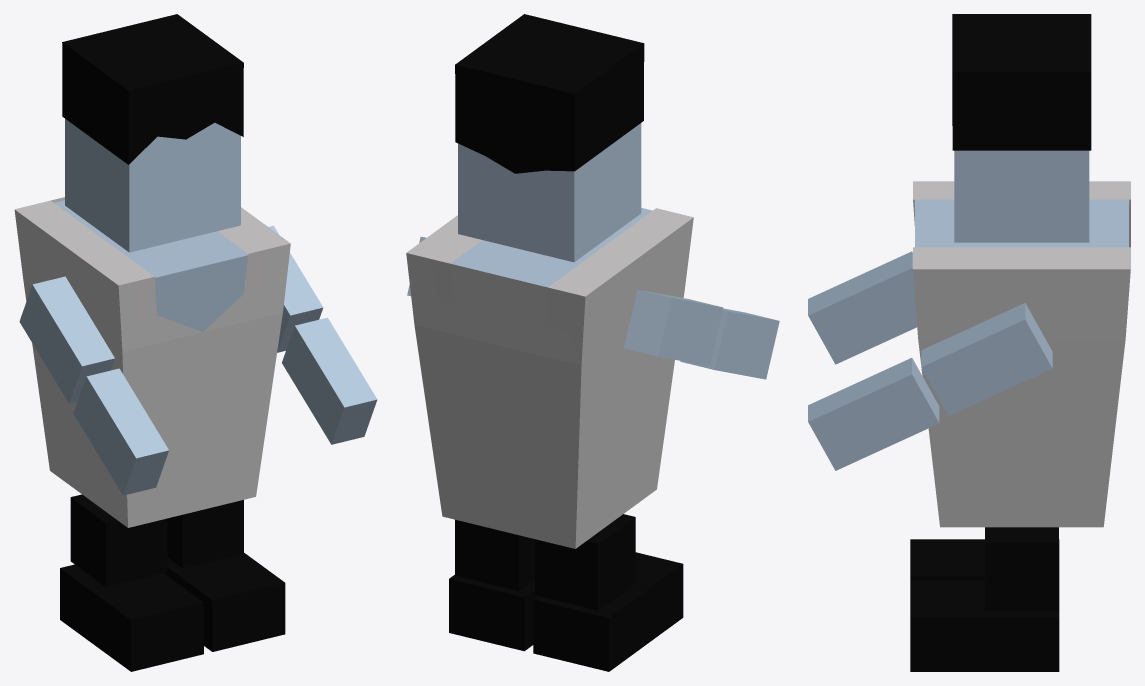
File: zomb.fbx
3 views of the same model, side by side, from view 1: azimuth 30°, elevation 25°; view 2: azimuth 150°, elevation 25°; view 3: azimuth 270°, elevation 25° (orthographic). The views are drawn at different scales.
Visible parts, largest first — view 1: Cube.012, Cube.010, Cube.001, Cube.004, Cube, Cube.005, Cube.007, Cube.008, Cube.009, Cube.002, Cube.003, Cube.006; view 2: Cube.012, Cube.010, Cube.001, Cube.004, Cube.002, Cube.009, Cube.005, Cube.003, Cube.008, Cube; view 3: Cube.012, Cube.010, Cube.001, Cube.005, Cube.007, Cube.006, Cube.008, Cube.003, Cube, Cube.004.
Part boxes in pixels (x1=…): Cube.012: x1=14, y1=197, x2=290, y2=527; Cube.010: x1=62, y1=14, x2=243, y2=164; Cube.001: x1=65, y1=119, x2=240, y2=252; Cube.004: x1=60, y1=564, x2=203, y2=671; Cube: x1=54, y1=200, x2=248, y2=331; Cube.005: x1=164, y1=553, x2=285, y2=651; Cube.007: x1=282, y1=317, x2=377, y2=444; Cube.008: x1=73, y1=368, x2=168, y2=495; Cube.009: x1=19, y1=276, x2=114, y2=403; Cube.002: x1=70, y1=494, x2=167, y2=586; Cube.003: x1=167, y1=500, x2=243, y2=568; Cube.006: x1=269, y1=225, x2=323, y2=352; Cube.012: x1=406, y1=208, x2=693, y2=548; Cube.010: x1=455, y1=14, x2=644, y2=173; Cube.001: x1=458, y1=123, x2=641, y2=262; Cube.004: x1=533, y1=552, x2=683, y2=671; Cube.002: x1=535, y1=514, x2=635, y2=610; Cube.009: x1=624, y1=289, x2=723, y2=366; Cube.005: x1=449, y1=575, x2=537, y2=651; Cube.003: x1=455, y1=519, x2=534, y2=590; Cube.008: x1=680, y1=308, x2=779, y2=379; Cube: x1=451, y1=208, x2=652, y2=287; Cube.012: x1=913, y1=181, x2=1130, y2=527; Cube.010: x1=952, y1=14, x2=1091, y2=150; Cube.001: x1=954, y1=150, x2=1089, y2=242; Cube.005: x1=910, y1=580, x2=1059, y2=671; Cube.007: x1=808, y1=358, x2=939, y2=470; Cube.006: x1=921, y1=303, x2=1052, y2=415; Cube.008: x1=808, y1=251, x2=917, y2=364; Cube.003: x1=985, y1=527, x2=1058, y2=610; Cube: x1=915, y1=199, x2=1128, y2=247; Cube.004: x1=910, y1=539, x2=1059, y2=580.
Bounding box in the file's own units: 49.94 × 111 × 55.3.
